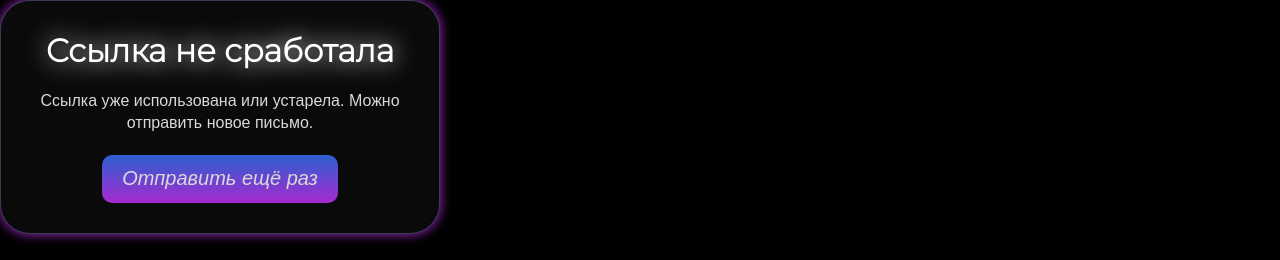
EmailVerification › offers a new email when the link does not work
Check: the heading "Ссылка не сработала" is shown, box [46, 31, 394, 70]
Click the button "Отправить ещё раз".
click(220, 179)  # box [102, 155, 338, 203]
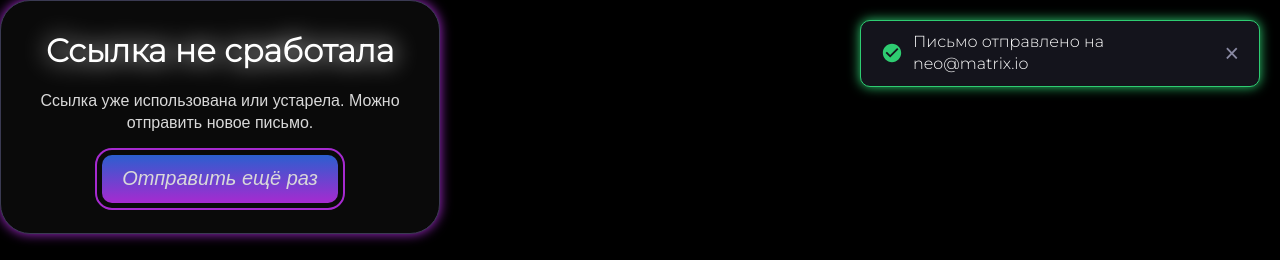
Check: the text "Письмо отправлено на neo@matrix.io" is shown, box [913, 32, 1104, 73]
